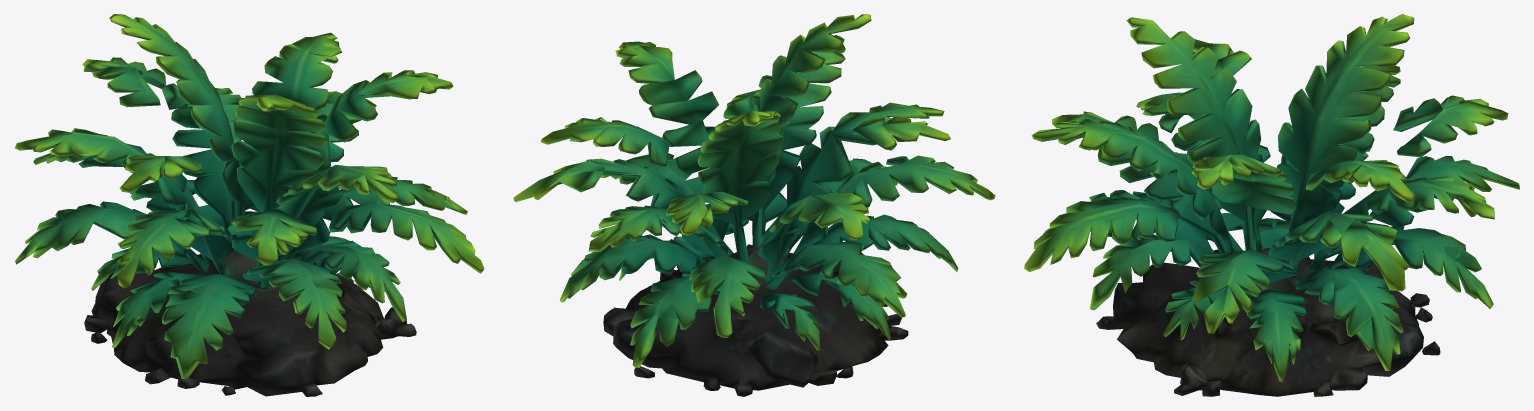
Rendered from giant_fern.glb.
The picture shows the model from 3 angles, left to right: view 1: azimuth 30°, elevation 25°; view 2: azimuth 150°, elevation 25°; view 3: azimuth 270°, elevation 25°; orthographic projection. The views are drawn at different scales.
Parts seen in each view (by area): view 1: tripo_node_ee6aab9e-83eb-42bc-9991-e1f5a04bec81; view 2: tripo_node_ee6aab9e-83eb-42bc-9991-e1f5a04bec81; view 3: tripo_node_ee6aab9e-83eb-42bc-9991-e1f5a04bec81.
Boxes of the visible parts, x1=… form: tripo_node_ee6aab9e-83eb-42bc-9991-e1f5a04bec81: x1=15, y1=14, x2=484, y2=396; tripo_node_ee6aab9e-83eb-42bc-9991-e1f5a04bec81: x1=513, y1=14, x2=995, y2=396; tripo_node_ee6aab9e-83eb-42bc-9991-e1f5a04bec81: x1=1024, y1=14, x2=1519, y2=396.
Size of the model in its own units: 16.77 by 12 by 18.44.
Materials: 1 (1 with a texture image).
